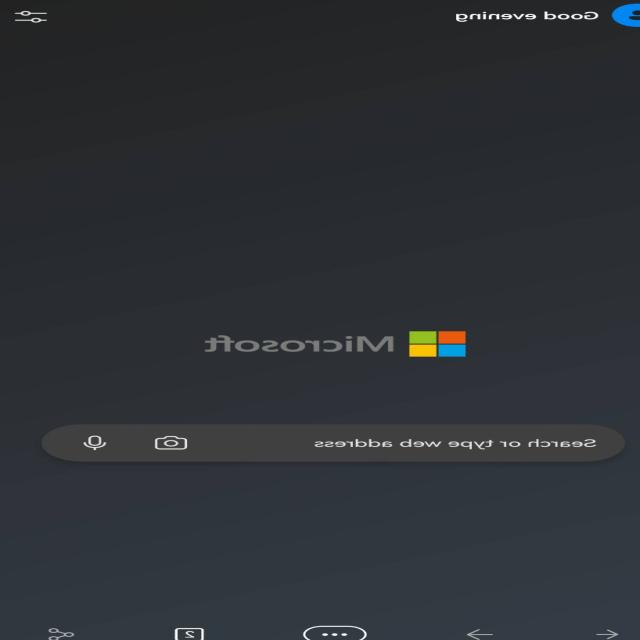Icon: (138, 428, 204, 458), (76, 427, 114, 458)
SearchBar: (25, 419, 638, 470)
